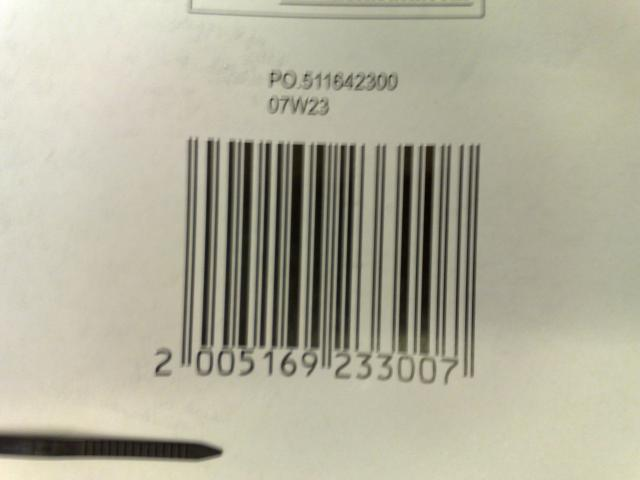Barkod: (175, 130, 485, 356)
